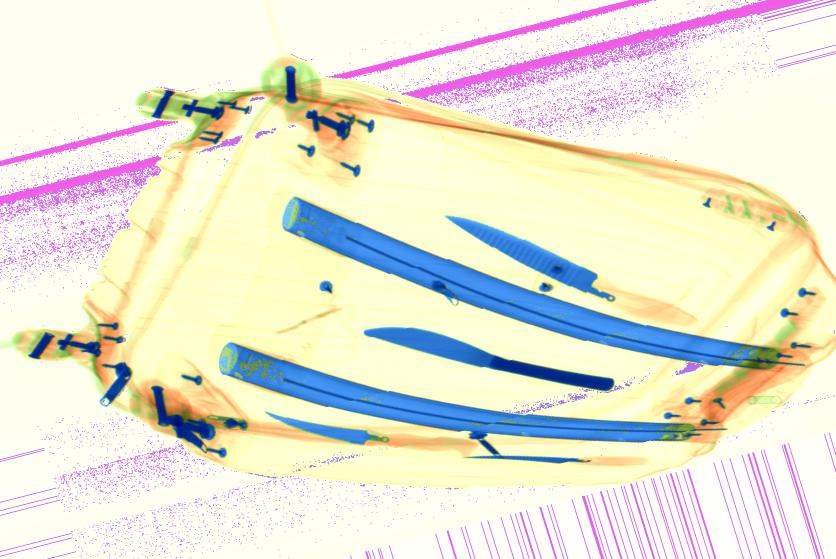Knife: (360, 323, 615, 391), (442, 215, 621, 304), (264, 408, 399, 448), (464, 453, 645, 467)
